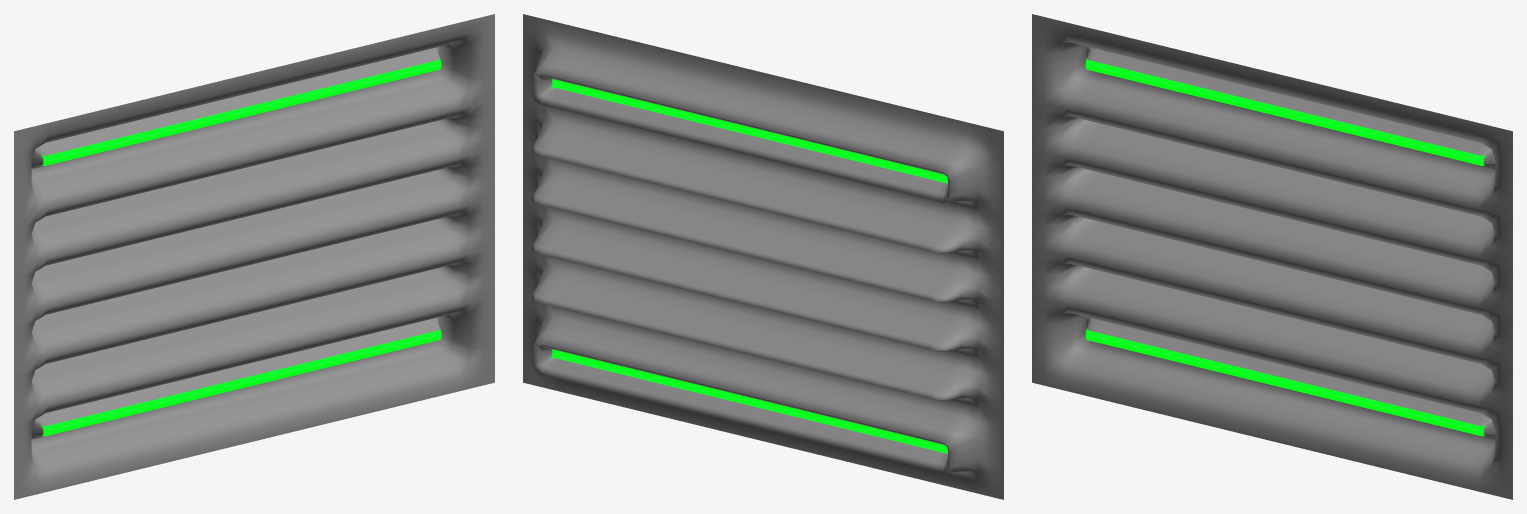
Rendered from WallTile10.fbx.
The picture shows the model from 3 angles, left to right: view 1: azimuth 30°, elevation 25°; view 2: azimuth 150°, elevation 25°; view 3: azimuth 330°, elevation 25°; orthographic projection.
Visible parts, largest first — view 1: Plane012; view 2: Plane012; view 3: Plane012.
Part boxes in pixels (x1,y1,x2,y2): Plane012: (14,14,494,499); Plane012: (523,14,1003,499); Plane012: (1032,14,1512,499).
Size of the model in its own units: 938 by 687 by 94.84.
